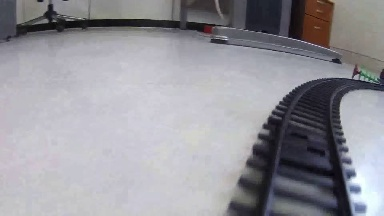tree: (347, 61, 384, 85)
